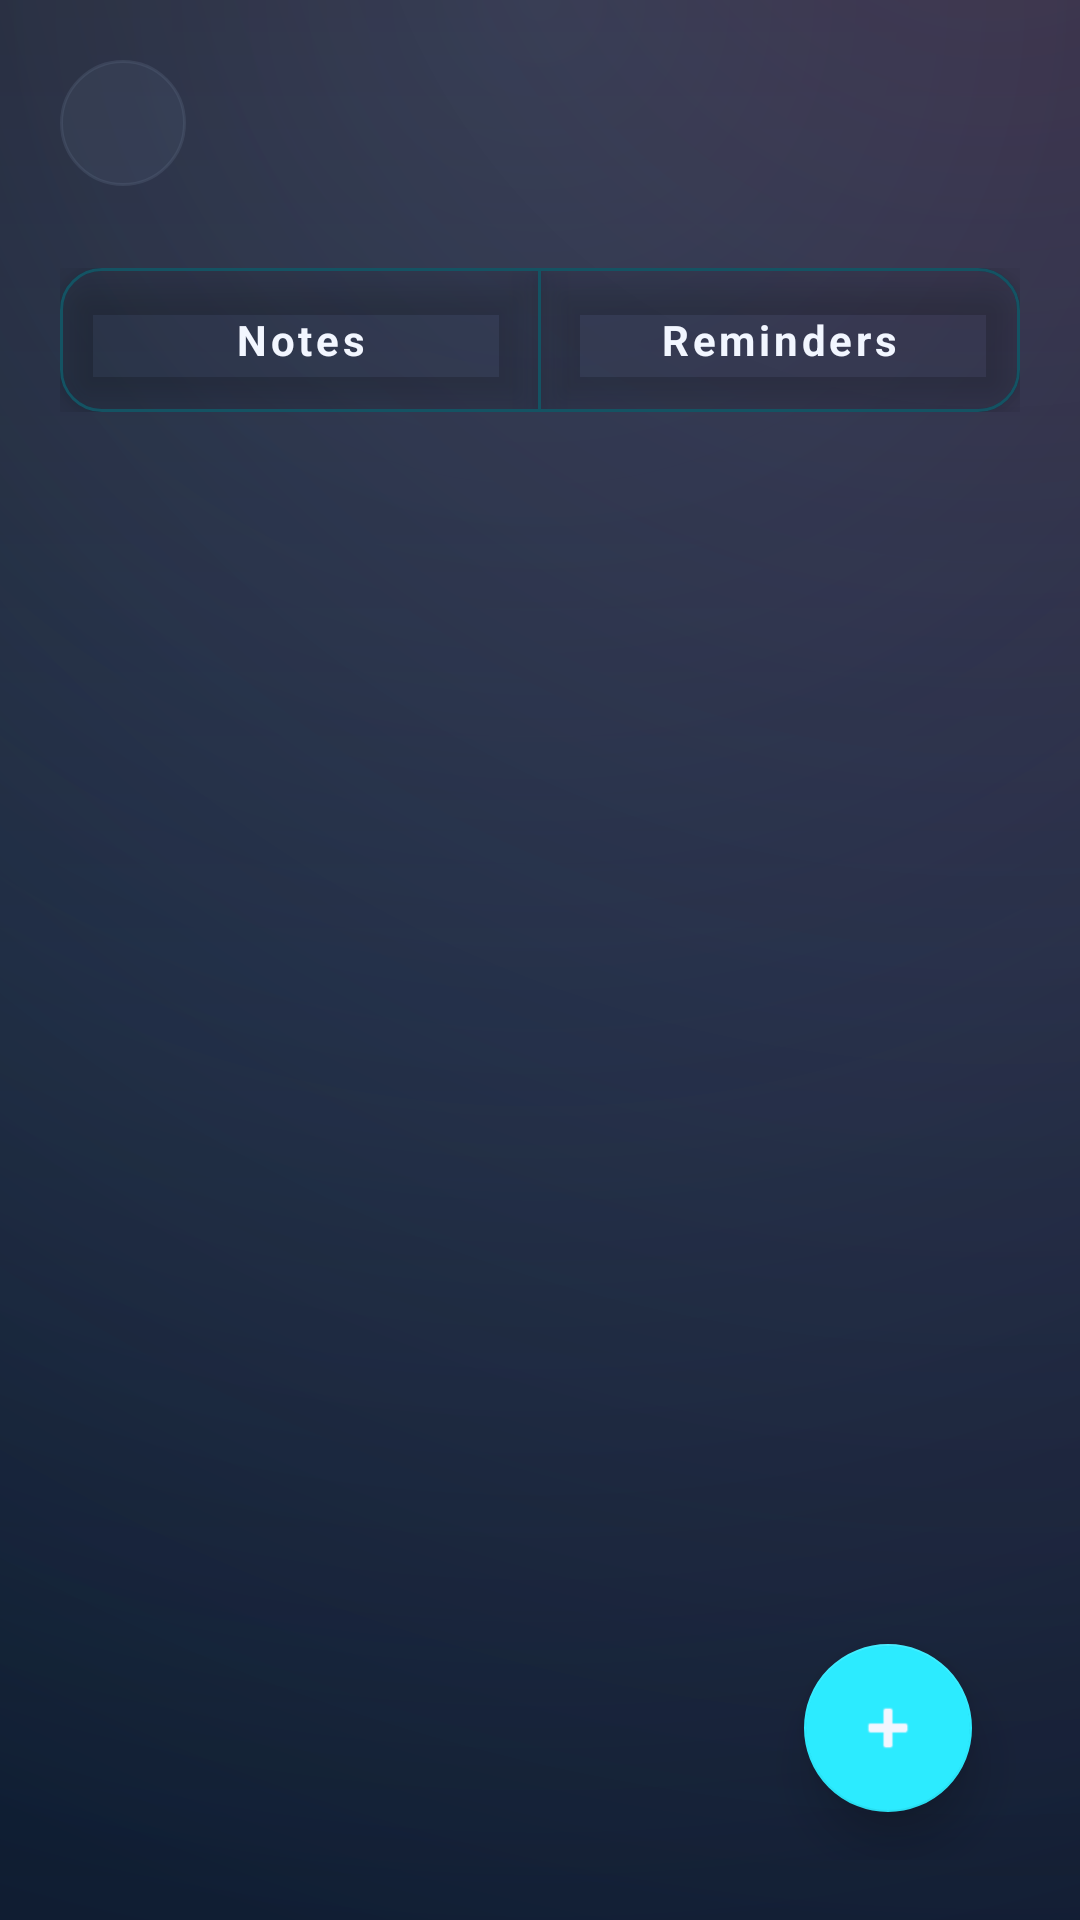

Point at icon controls on the screen. Image size 1080 x 1920, points as point (x, y).
Add note or reminder: point (888, 1728)
